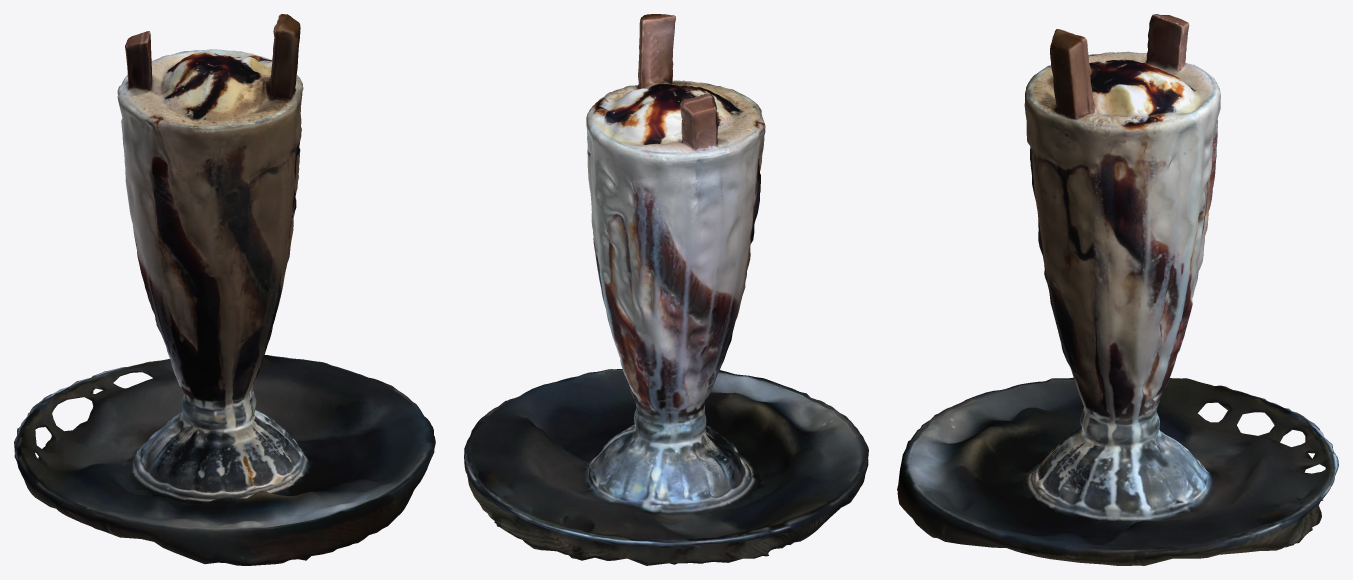
The model's file is Shake.glb.
The picture shows the model from 3 angles, left to right: view 1: azimuth 30°, elevation 25°; view 2: azimuth 150°, elevation 25°; view 3: azimuth 270°, elevation 25°; orthographic projection. The views are drawn at different scales.
Parts seen in each view (by area): view 1: Mesh; view 2: Mesh; view 3: Mesh.
Part boxes in pixels (<box>): Mesh: <box>14,14,435,565</box>; Mesh: <box>464,14,868,565</box>; Mesh: <box>897,14,1338,565</box>.
Bounding box in the file's own units: 0.1851 × 0.2327 × 0.1874.
1 material, 1 textured.
